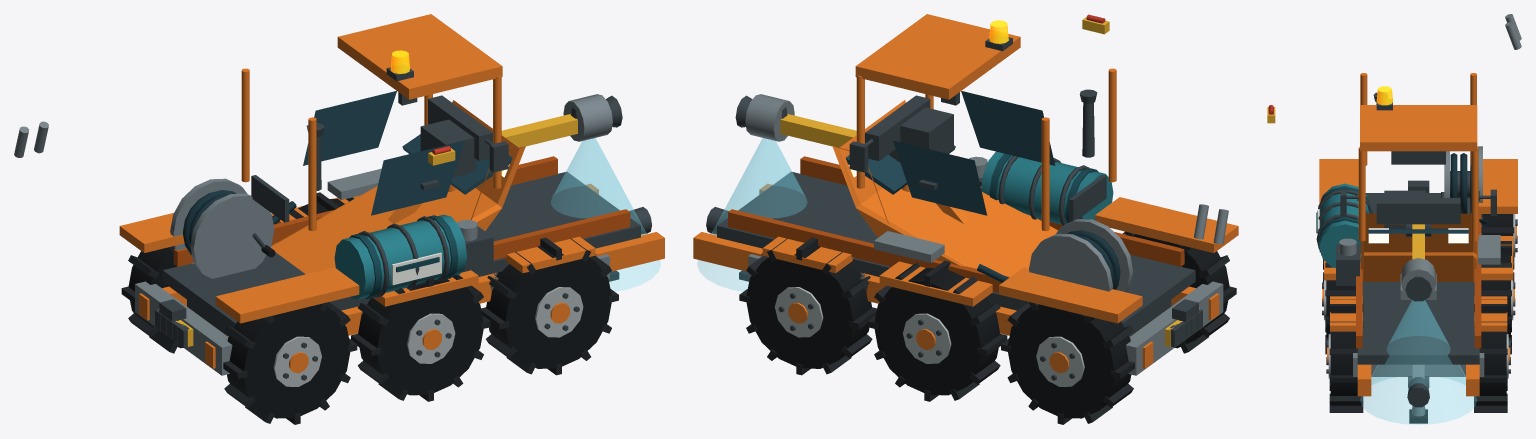
File: asset.glb
The picture shows the model from 3 angles, left to right: view 1: azimuth 30°, elevation 25°; view 2: azimuth 150°, elevation 25°; view 3: azimuth 270°, elevation 25°; orthographic projection. The views are drawn at different scales.
Parts seen in each view (by area): view 1: Running_Gear_Deck, Rear_Right_Wheel_Tire, Front_Right_Wheel_Tire, Middle_Right_Wheel_Tire, Cab_Roof, Cab_Body, Reel_Flange_1, Static_Spraying_Cone, Tank_Body, Rear_Right_Fender, Right_Side_Window, Left_Side_Window (+29 smaller); view 2: Cab_Body, Running_Gear_Deck, Middle_Left_Wheel_Tire, Rear_Left_Wheel_Tire, Front_Left_Wheel_Tire, Cab_Roof, Static_Spraying_Cone, Left_Side_Window, Rear_Left_Fender, Right_Side_Window, Tank_Body, Rear_Right_Fender (+30 smaller); view 3: Running_Gear_Deck, Static_Spraying_Cone, Cab_Roof, Cab_Body, Dashboard, Rear_Left_Fender, Tank_Body, Front_Left_Wheel_Tire, Front_Right_Wheel_Tire, Front_Right_Wheel, Front_Left_Wheel, Front_Bumper (+37 smaller).
Part boxes in pixels (x1,y1,x2,y2): Running_Gear_Deck: (162, 171, 640, 327); Rear_Right_Wheel_Tire: (227, 304, 350, 418); Front_Right_Wheel_Tire: (486, 245, 611, 368); Middle_Right_Wheel_Tire: (358, 279, 483, 395); Cab_Roof: (337, 14, 502, 99); Cab_Body: (270, 100, 525, 274); Reel_Flange_1: (190, 193, 274, 278); Static_Spraying_Cone: (551, 138, 660, 291); Tank_Body: (334, 214, 466, 299); Rear_Right_Fender: (215, 267, 359, 323); Right_Side_Window: (371, 140, 464, 215); Left_Side_Window: (303, 91, 396, 165); Cab_Body: (832, 100, 1057, 276); Running_Gear_Deck: (717, 171, 1195, 327); Middle_Left_Wheel_Tire: (874, 268, 1000, 395); Rear_Left_Wheel_Tire: (1008, 304, 1131, 418); Front_Left_Wheel_Tire: (746, 245, 872, 368); Cab_Roof: (855, 14, 1020, 99); Static_Spraying_Cone: (697, 138, 807, 291); Left_Side_Window: (893, 140, 987, 215); Rear_Left_Fender: (999, 267, 1142, 323); Right_Side_Window: (961, 91, 1055, 165); Tank_Body: (981, 151, 1113, 224); Rear_Right_Fender: (1095, 197, 1238, 252); Running_Gear_Deck: (1357, 193, 1479, 364); Static_Spraying_Cone: (1360, 300, 1476, 424); Cab_Roof: (1360, 105, 1477, 151); Cab_Body: (1360, 213, 1476, 281); Dashboard: (1376, 198, 1460, 224); Rear_Left_Fender: (1478, 159, 1517, 213); Tank_Body: (1319, 183, 1369, 267); Front_Left_Wheel_Tire: (1475, 311, 1506, 405); Front_Right_Wheel_Tire: (1330, 311, 1362, 405); Front_Right_Wheel: (1326, 299, 1363, 412); Front_Left_Wheel: (1474, 299, 1510, 412); Front_Bumper: (1353, 353, 1484, 376).
Size of the model in its own units: 7.27 by 3.94 by 3.39.
